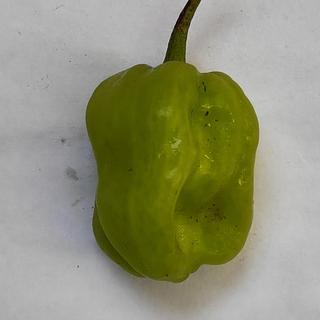Fly-bites: (199, 106, 218, 121)
